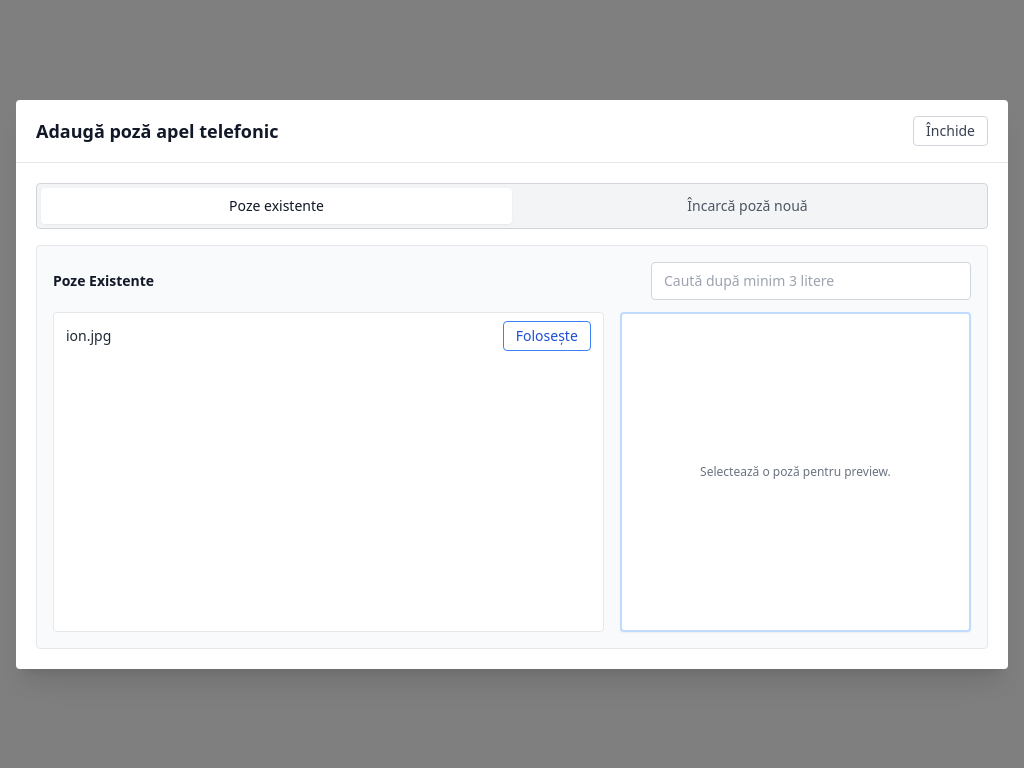
Test: PhoneImageModal › shows a clear message when existing image search has no matches
The width and height of the screenshot is (1024, 768).
Expected: the button "ion.jpg" is shown, x1=66 y1=326 x2=111 y2=346
Step 1. Type "xyz" into the search field named "Caută poze existente" → [811, 280], box x1=651 y1=262 x2=971 y2=300
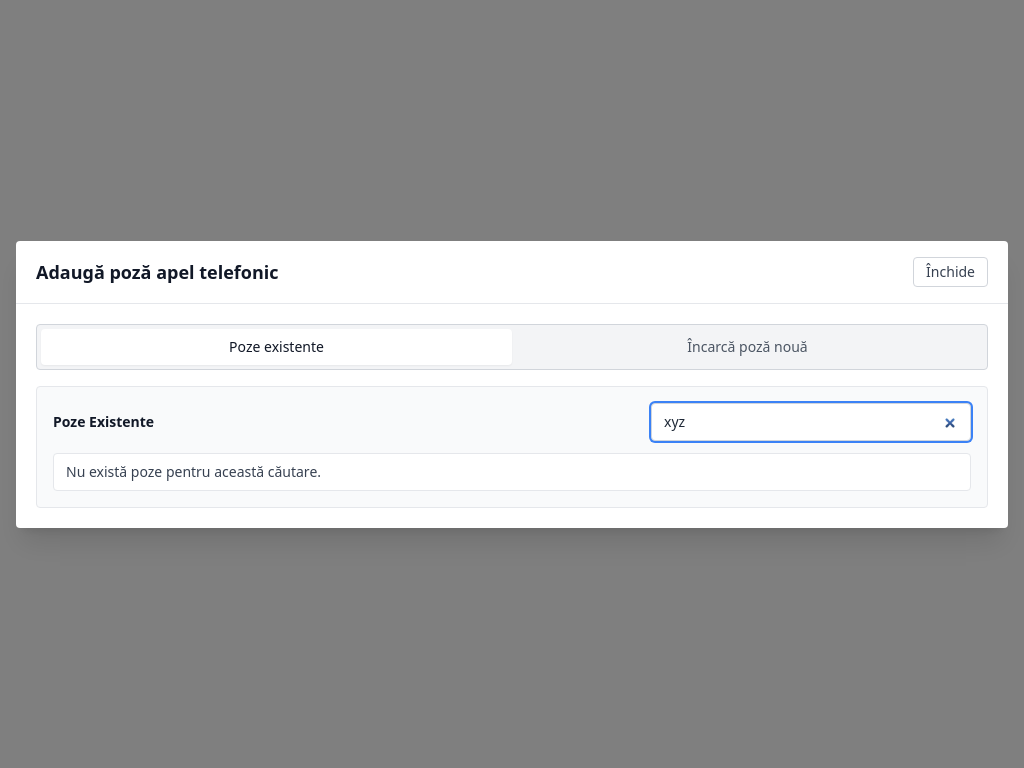
Expected: the button "ion.jpg" is gone
Expected: the text "Nu există poze pentru această căutare." is shown, x1=53 y1=452 x2=971 y2=490
